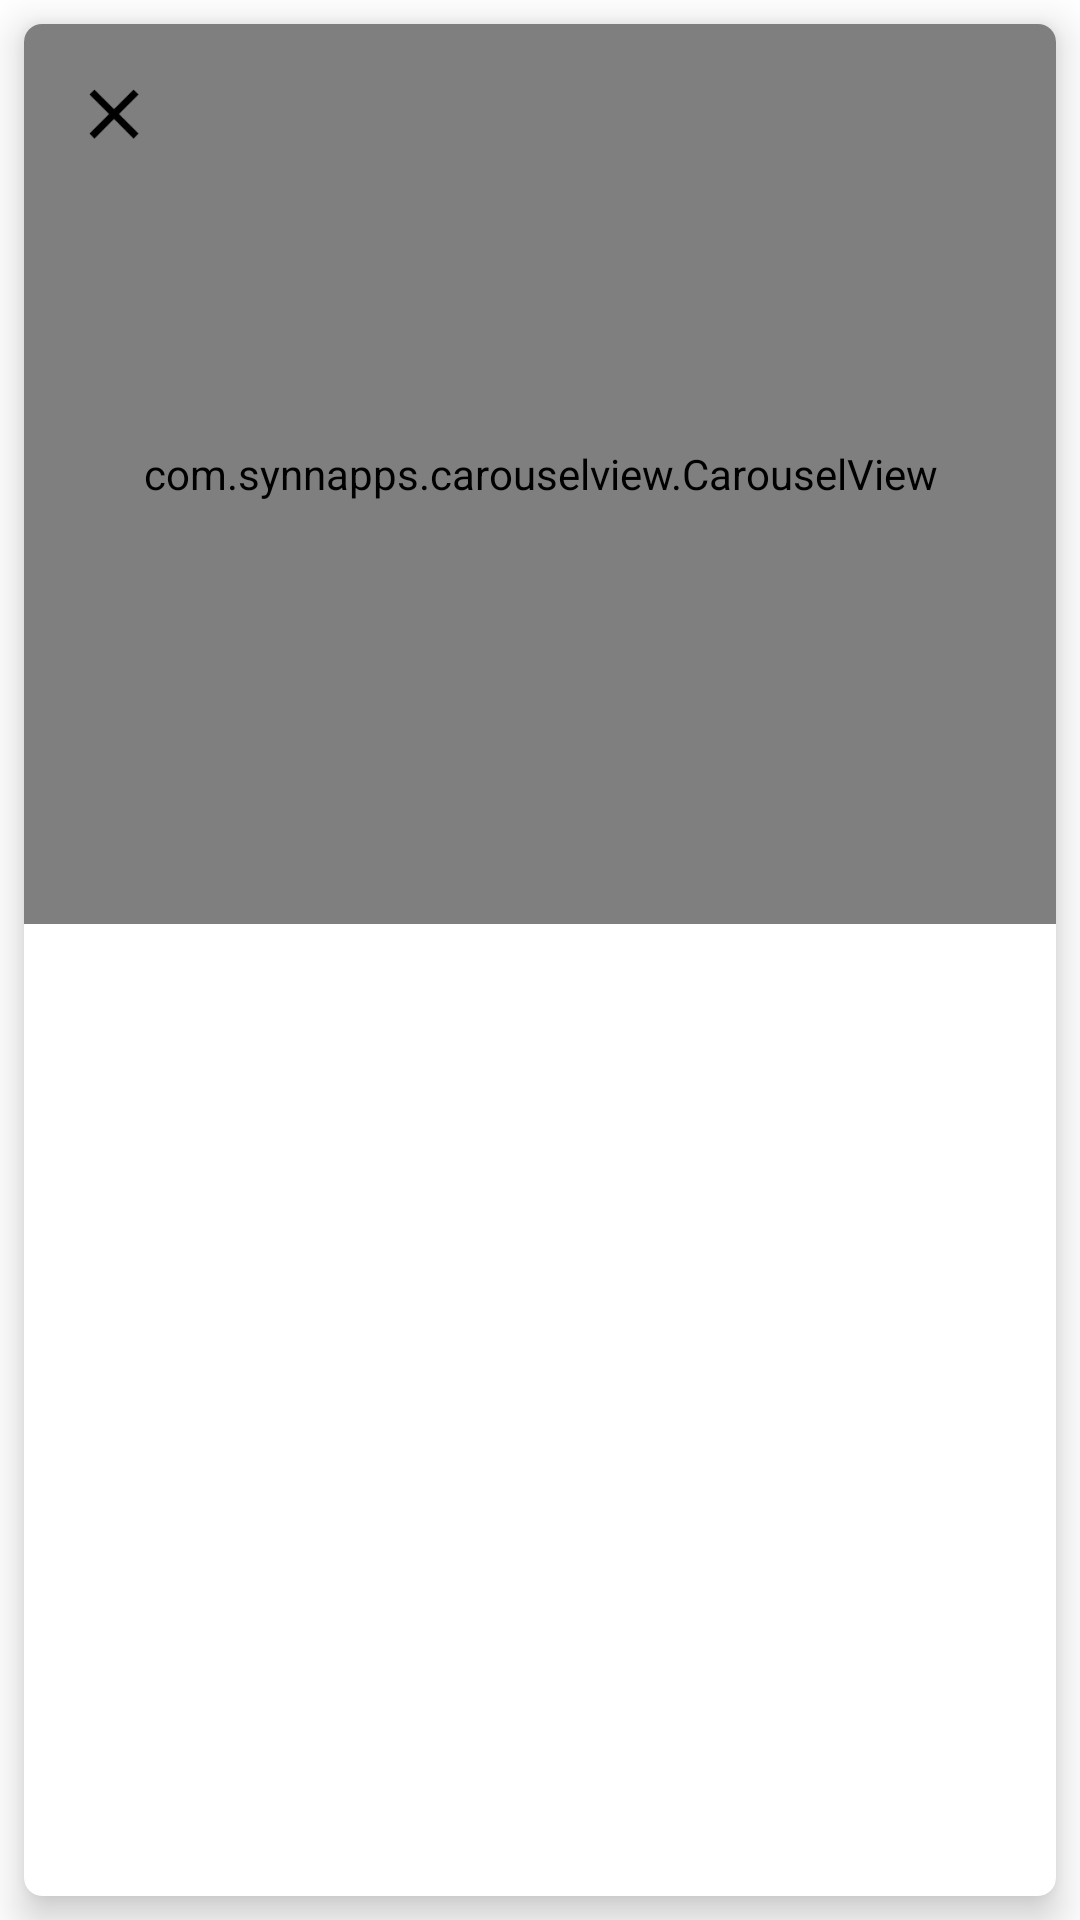

Icons on this 1080px×1920px Android screen, each with the point to tap as (x,y):
close: (114,114)
